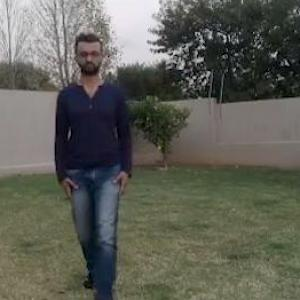follow: (64, 41, 130, 299)
